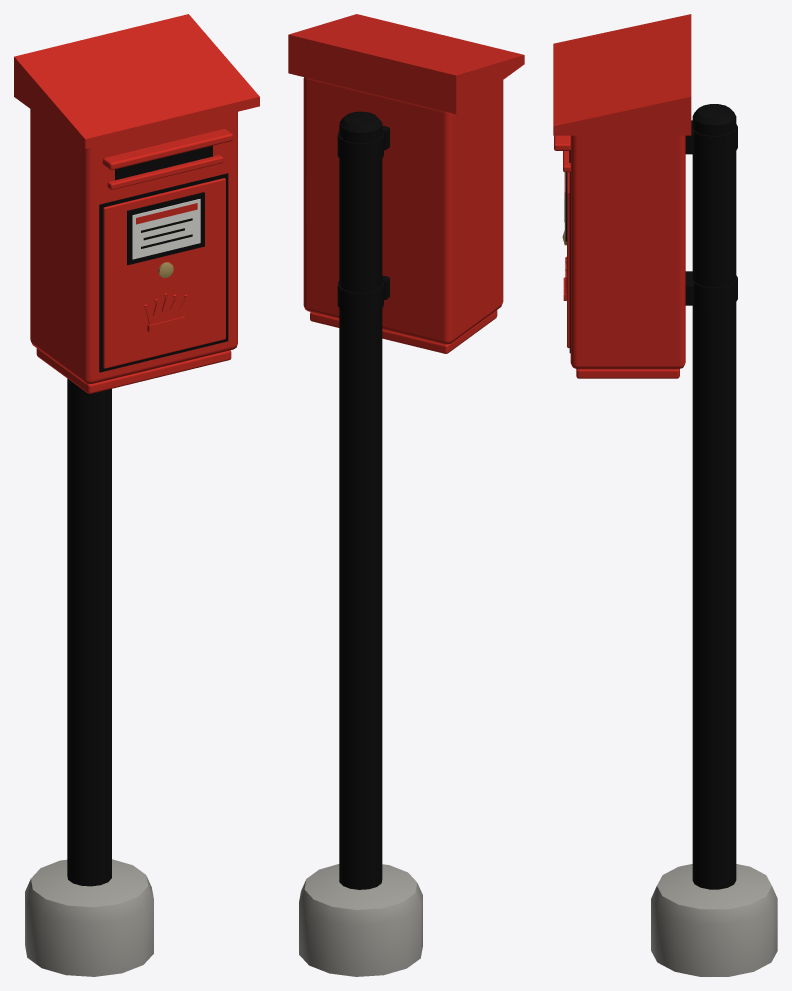
The model's file is street.furniture.post_box_c.glb.
The picture shows the model from 3 angles, left to right: view 1: azimuth 30°, elevation 25°; view 2: azimuth 150°, elevation 25°; view 3: azimuth 270°, elevation 25°; orthographic projection. The views are drawn at different scales.
Parts seen in each view (by area): view 1: main__enamel_c22, main__rubber, main__concrete_a99, main__enamel_ddd; view 2: main__enamel_c22, main__rubber, main__concrete_a99; view 3: main__enamel_c22, main__rubber, main__concrete_a99.
Part boxes in pixels (bbox=[...]): main__enamel_c22: bbox=[14, 14, 259, 393]; main__rubber: bbox=[67, 145, 228, 886]; main__concrete_a99: bbox=[25, 859, 153, 976]; main__enamel_ddd: bbox=[132, 199, 200, 259]; main__enamel_c22: bbox=[288, 14, 524, 353]; main__rubber: bbox=[337, 111, 389, 889]; main__concrete_a99: bbox=[299, 864, 422, 976]; main__enamel_c22: bbox=[553, 14, 691, 378]; main__rubber: bbox=[564, 104, 737, 889]; main__concrete_a99: bbox=[651, 864, 777, 976].
Bounding box in the file's own units: 0.34 × 1.72 × 0.39.
